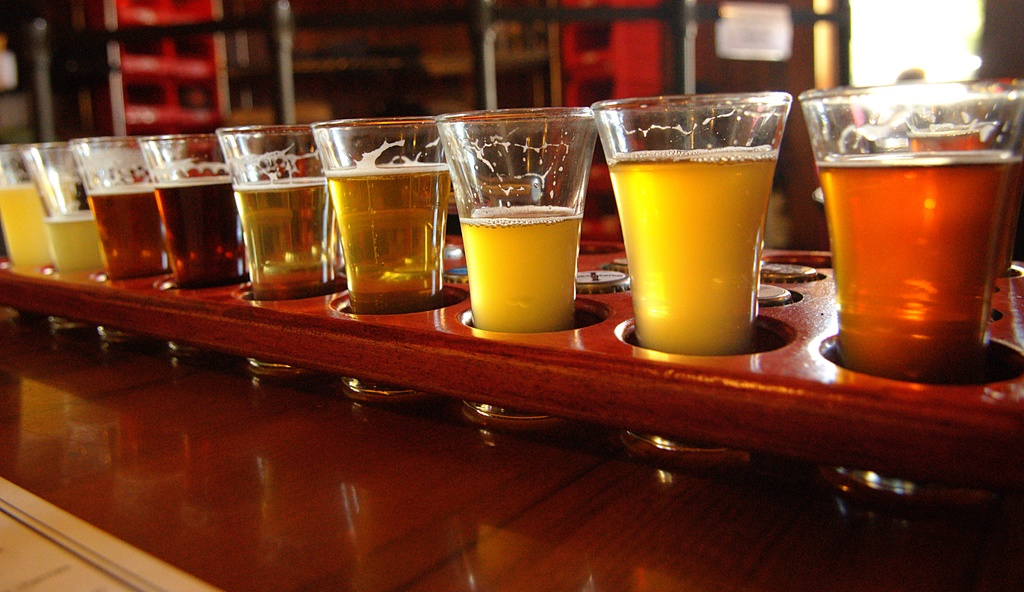Beer: (822, 152, 1023, 376), (604, 147, 768, 353), (331, 158, 444, 313), (456, 208, 576, 341), (232, 180, 327, 311), (81, 192, 171, 288), (149, 180, 215, 287), (0, 176, 60, 263), (42, 202, 113, 274)
